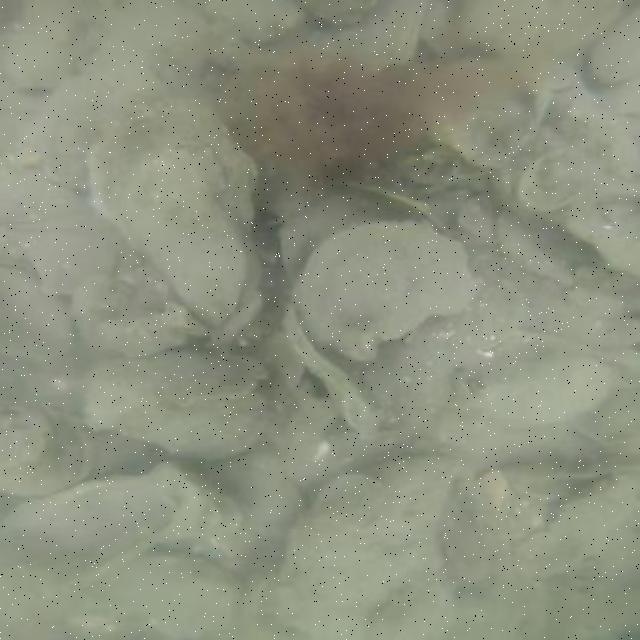Oyster-Closed: (274, 456, 467, 640), (289, 218, 477, 362), (0, 464, 220, 582), (88, 97, 257, 249), (125, 139, 248, 326), (396, 52, 557, 172), (81, 382, 273, 459), (276, 306, 382, 438), (506, 477, 640, 578), (99, 551, 238, 639), (460, 350, 612, 429), (319, 170, 457, 241), (95, 349, 266, 406), (74, 277, 191, 355), (208, 448, 304, 539), (562, 181, 636, 280), (501, 454, 638, 504), (495, 210, 580, 290), (512, 143, 601, 217), (202, 0, 305, 47), (381, 452, 456, 497), (319, 473, 384, 524), (390, 144, 469, 185), (596, 13, 640, 80), (290, 0, 379, 28)
Oyster-Open: (0, 397, 100, 500)
